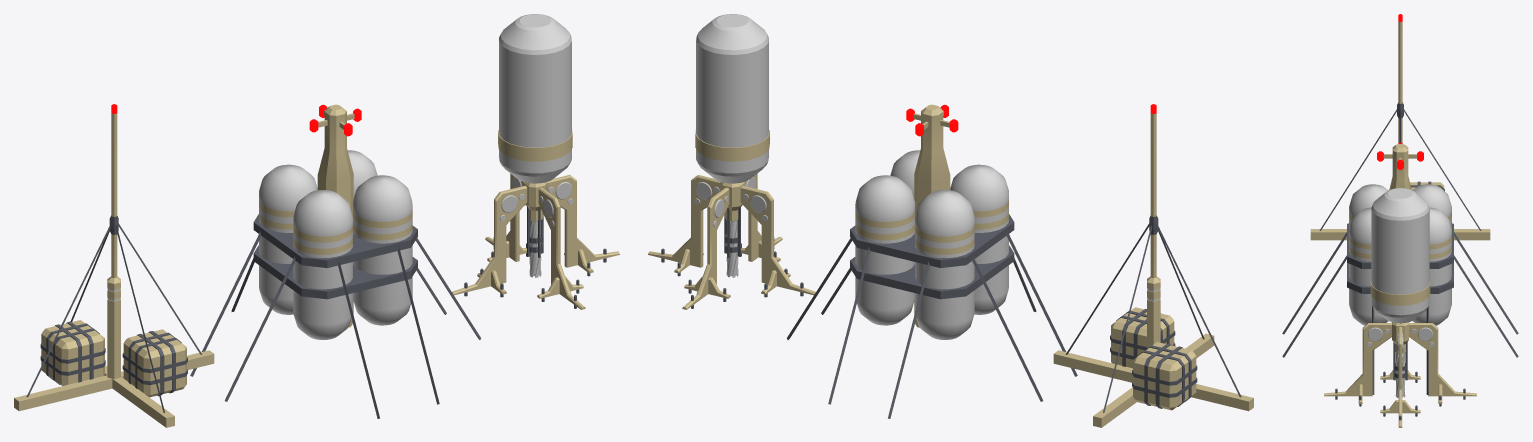
File: Objectives.fbx
The picture shows the model from 3 angles, left to right: view 1: azimuth 30°, elevation 25°; view 2: azimuth 150°, elevation 25°; view 3: azimuth 270°, elevation 25°; orthographic projection. The views are drawn at different scales.
Parts seen in each view (by area): view 1: pCylinder21, pCylinder9, pCylinder6, pCylinder8, pCube8, pCube9, pCylinder1, pCube3, pCube4, pCube5, pCube2, pCube23 (+6 smaller); view 2: pCylinder21, pCylinder8, pCylinder7, pCylinder9, pCube9, pCube3, pCube4, pCylinder1, pCube5, pCube8, pCube2, pCube23 (+6 smaller); view 3: pCylinder21, pCylinder7, pCylinder6, pCube24, pCube25, pCube1, pCylinder9, pCylinder8, pCube3, pCylinder1, pCube4, pCube10 (+9 smaller).
Part boxes in pixels (x1,y1,x2,y2): pCylinder21: (498, 14, 572, 183); pCylinder9: (293, 190, 352, 339); pCylinder6: (352, 175, 412, 325); pCylinder8: (259, 164, 317, 314); pCube8: (122, 329, 187, 397); pCube9: (40, 320, 105, 385); pCylinder1: (107, 104, 120, 379); pCube3: (317, 104, 353, 327); pCube4: (253, 214, 417, 268); pCube5: (253, 245, 417, 299); pCube2: (14, 350, 214, 411); pCube23: (452, 185, 527, 295); pCylinder21: (695, 14, 769, 183); pCylinder8: (915, 190, 974, 339); pCylinder7: (855, 175, 915, 325); pCylinder9: (950, 164, 1008, 314); pCube9: (1132, 342, 1197, 410); pCube3: (914, 104, 950, 327); pCube4: (850, 214, 1014, 268); pCylinder1: (1147, 104, 1160, 348); pCube5: (850, 245, 1014, 299); pCube8: (1110, 307, 1175, 368); pCube2: (1053, 350, 1253, 411); pCube23: (740, 185, 815, 295); pCylinder21: (1370, 188, 1430, 323); pCylinder7: (1412, 207, 1451, 325); pCylinder6: (1349, 207, 1388, 325); pCube24: (1409, 323, 1476, 396); pCube25: (1324, 323, 1391, 396); pCube1: (1310, 229, 1490, 240); pCylinder9: (1349, 184, 1388, 228); pCylinder8: (1412, 184, 1451, 228); pCube3: (1389, 144, 1411, 189); pCylinder1: (1397, 14, 1403, 143); pCube4: (1347, 223, 1453, 268); pCube10: (1398, 327, 1402, 427).
Size of the model in its own units: 139 by 67.66 by 59.14.
